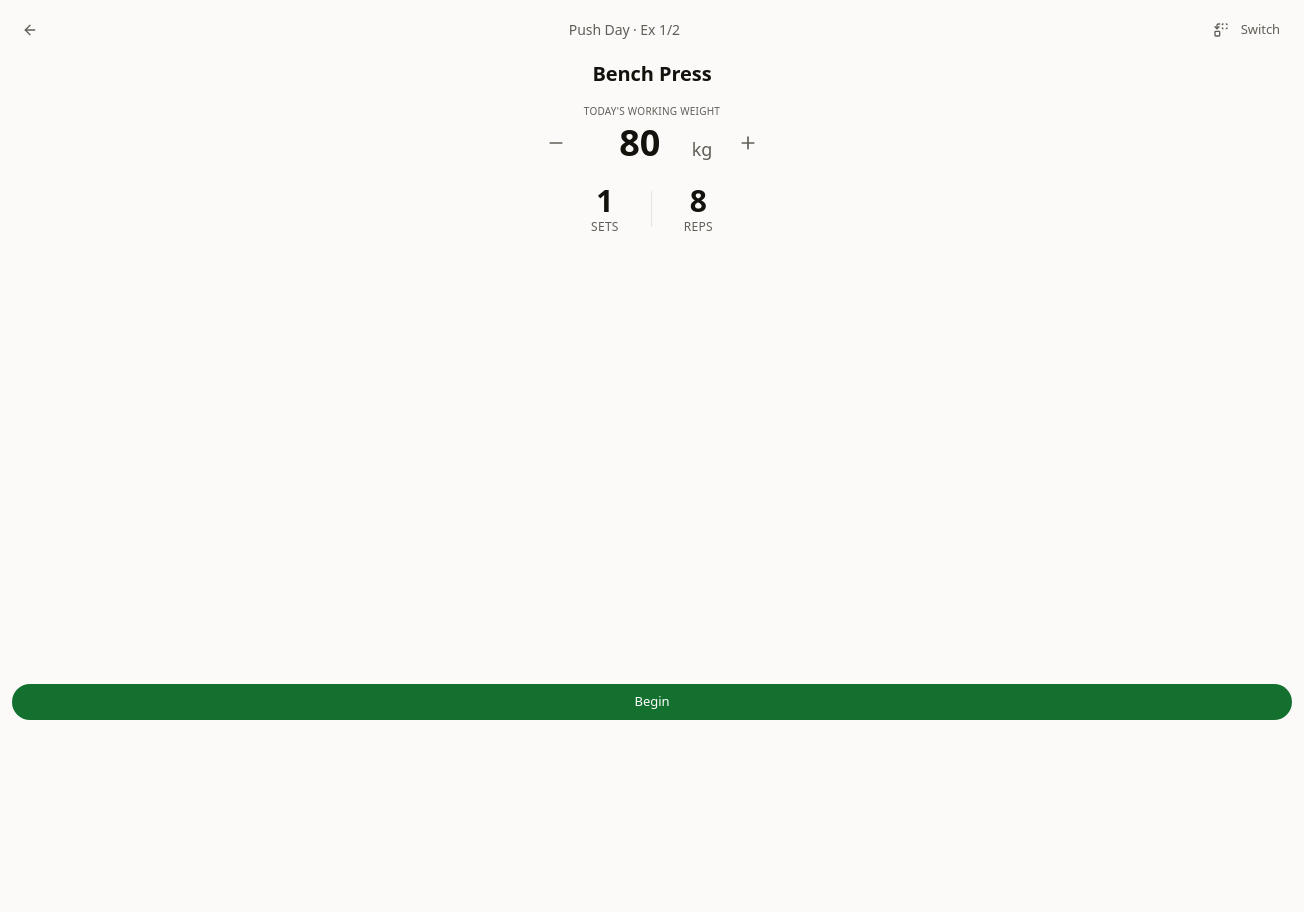
Test: resumes a draft with an added exercise's display data intact
The width and height of the screenshot is (1304, 912).
Click the button with aria-label "Jump to another exercise" at [1246, 30], box [1201,14,1292,46]
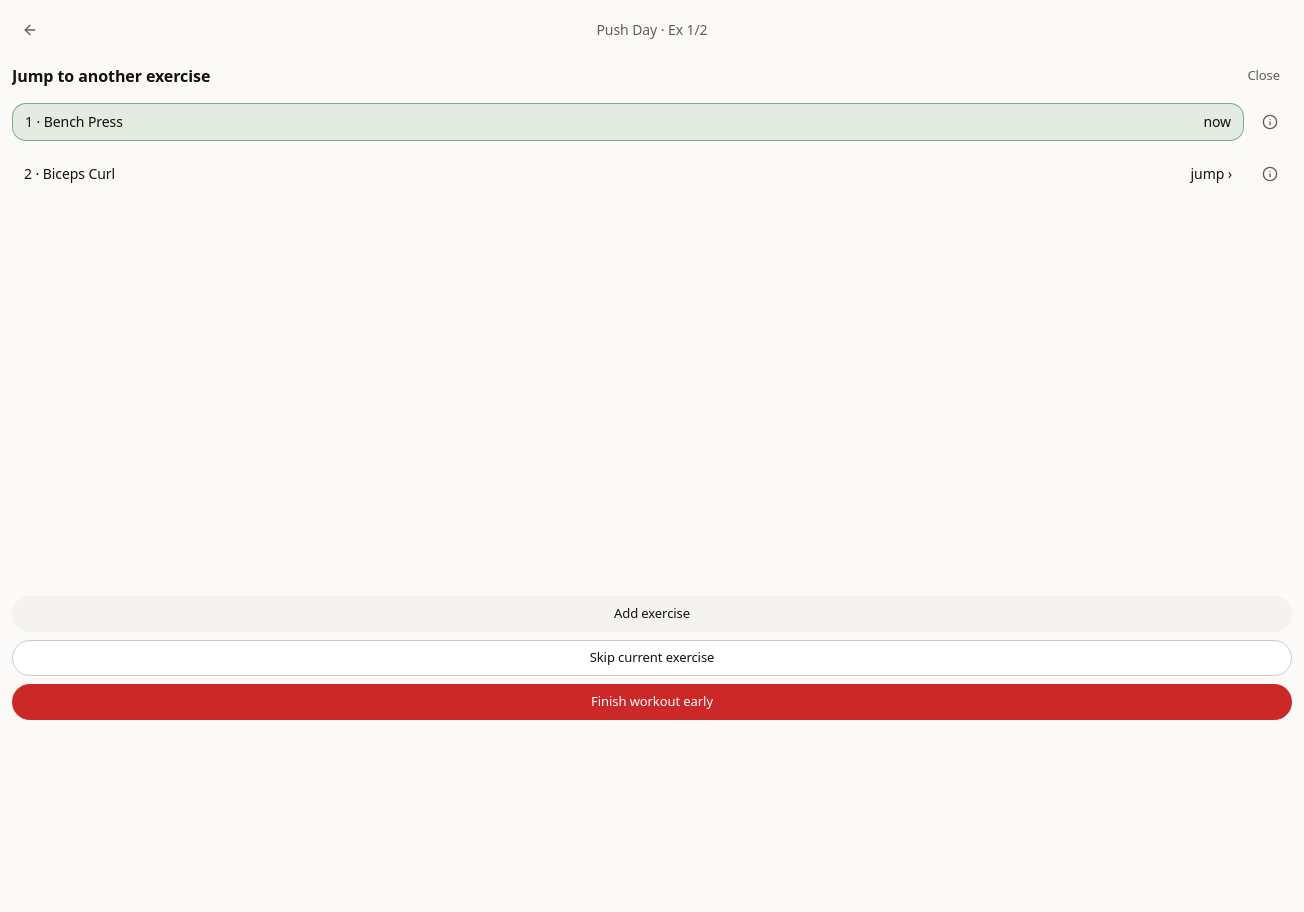
Expected: the text "2 · Biceps Curl" is shown, [24,164,115,184]
